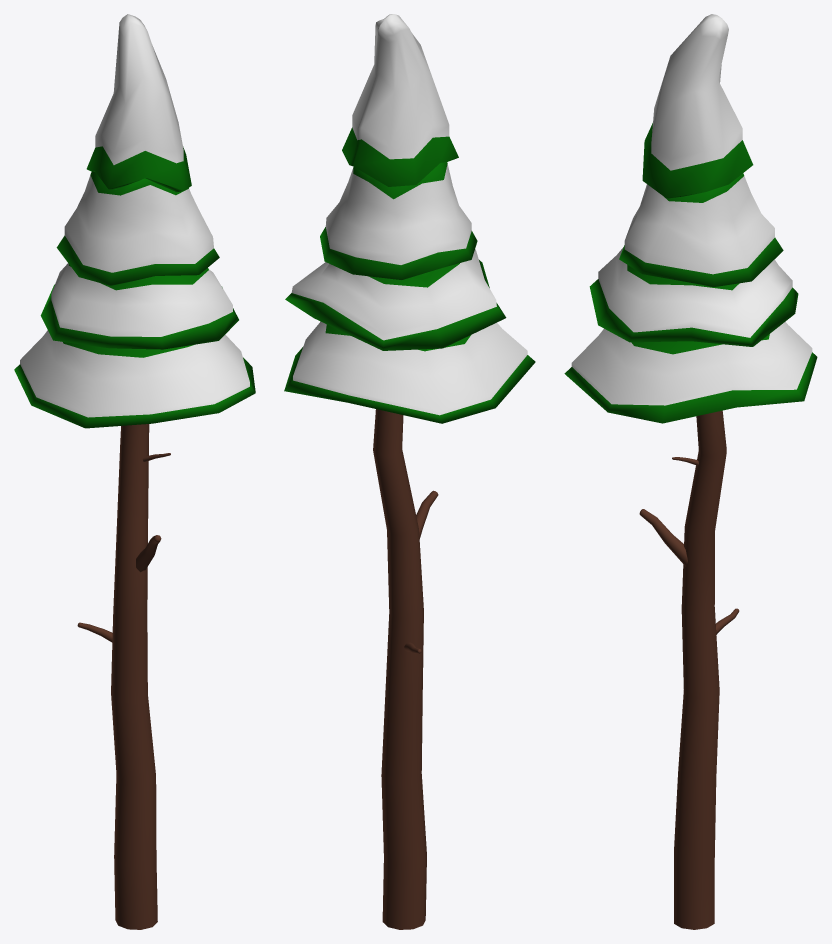
The model's file is PineTreeB2.fbx.
3 views of the same model, side by side, from view 1: azimuth 30°, elevation 25°; view 2: azimuth 150°, elevation 25°; view 3: azimuth 270°, elevation 25° (orthographic).
Visible parts, largest first — view 1: leaves6, trunk5; view 2: leaves6, trunk5; view 3: leaves6, trunk5.
Boxes of the visible parts, x1,y1,x2,y2 form: leaves6: [14, 14, 255, 428]; trunk5: [77, 424, 170, 929]; leaves6: [284, 14, 535, 423]; trunk5: [373, 409, 438, 929]; leaves6: [564, 14, 817, 423]; trunk5: [639, 410, 739, 929].
Size of the model in its own units: 582 by 2524 by 638.
